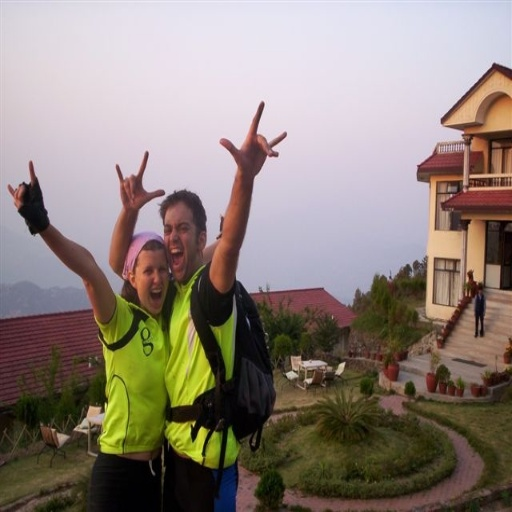hand: (217, 97, 287, 183), (113, 146, 166, 212), (6, 154, 49, 232)
